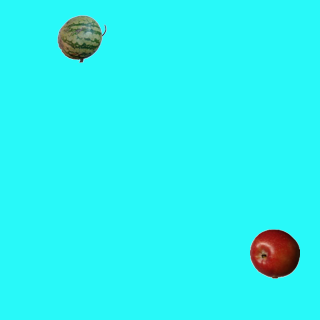Apple Braeburn: (249, 228, 299, 278)
Watermelon: (56, 13, 106, 63)
